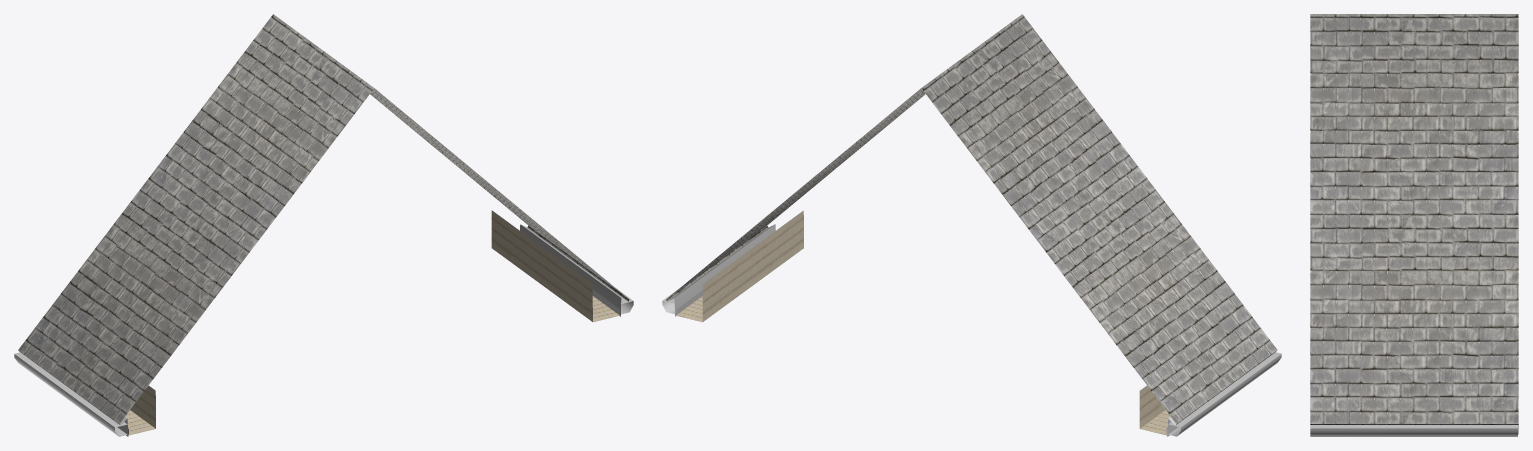
Rendered from Roof_5x.FBX.
The picture shows the model from 3 angles, left to right: view 1: azimuth 30°, elevation 25°; view 2: azimuth 150°, elevation 25°; view 3: azimuth 270°, elevation 25°; orthographic projection. The views are drawn at different scales.
Parts seen in each view (by area): view 1: Roof_5x; view 2: Roof_5x; view 3: Roof_5x.
Part boxes in pixels (box(x1,y1,x2,y2)): Roof_5x: box(14, 14, 633, 436); Roof_5x: box(662, 14, 1281, 436); Roof_5x: box(1310, 14, 1518, 436).
Bounding box in the file's own units: 594 × 316 × 201.
